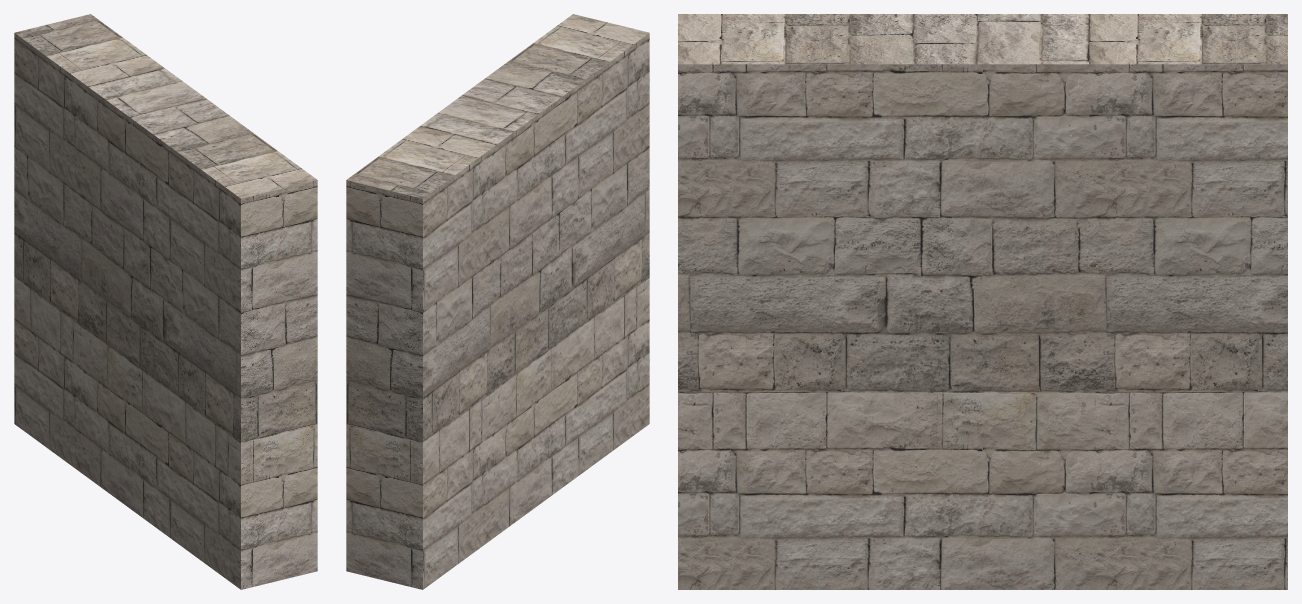
File: bay_wall.glb
3 renders of one model, left to right at view 1: azimuth 30°, elevation 25°; view 2: azimuth 150°, elevation 25°; view 3: azimuth 270°, elevation 25°, orthographic. The views are drawn at different scales.
Parts seen in each view (by area): view 1: Deep masonry wall; view 2: Deep masonry wall; view 3: Deep masonry wall.
Part boxes in pixels (x1,y1,x2,y2): Deep masonry wall: (14, 14, 317, 589); Deep masonry wall: (346, 14, 649, 589); Deep masonry wall: (678, 14, 1287, 589).
Bounding box in the file's own units: 0.8 × 3.9 × 4.1.
Materials: 1 (1 with a texture image).
